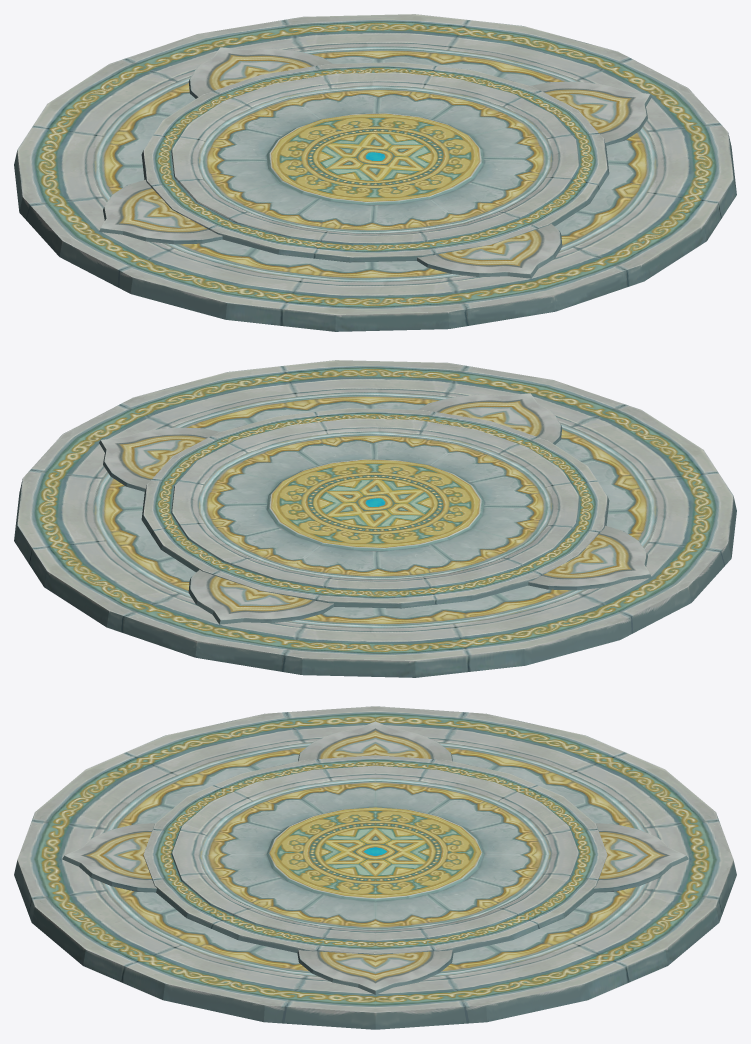
File: W3_HD_GongHuiBoss_dimian_01_03_D.FBX
3 views of the same model, one above another, from view 1: azimuth 30°, elevation 25°; view 2: azimuth 150°, elevation 25°; view 3: azimuth 270°, elevation 25° (orthographic).
Visible parts, largest first — view 1: W3_HD_GongHuiBoss_dimian_01_03_D; view 2: W3_HD_GongHuiBoss_dimian_01_03_D; view 3: W3_HD_GongHuiBoss_dimian_01_03_D.
Boxes of the visible parts, x1,y1,x2,y2 form: W3_HD_GongHuiBoss_dimian_01_03_D: (14, 14, 736, 331); W3_HD_GongHuiBoss_dimian_01_03_D: (14, 360, 736, 677); W3_HD_GongHuiBoss_dimian_01_03_D: (14, 706, 736, 1029).
Size of the model in its own units: 21.33 by 0.7532 by 21.05.
